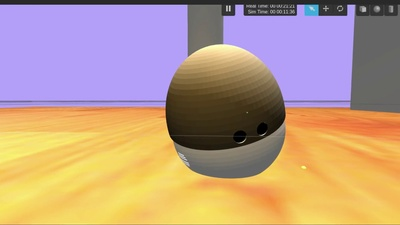mira_robot: (166, 44, 287, 179)
